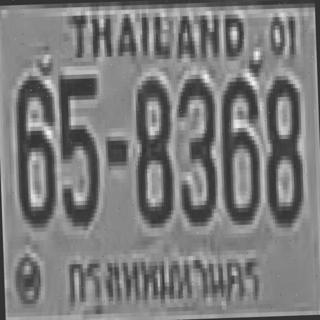N03: (175, 74, 216, 222)
N05: (56, 70, 99, 222)
N06: (13, 71, 56, 224), (218, 73, 259, 221)
N08: (261, 71, 302, 224), (132, 73, 171, 222)
P04: (62, 240, 273, 320)
